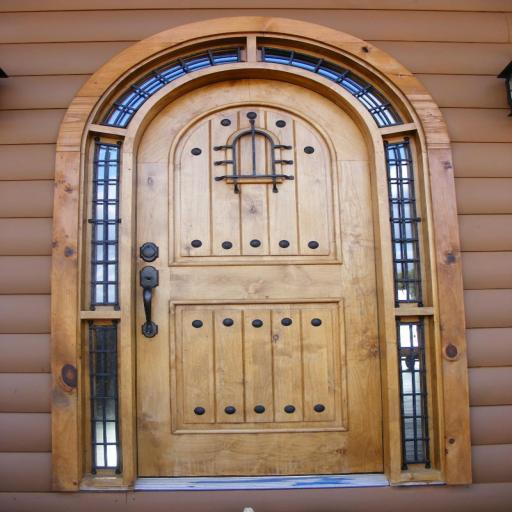Door: (134, 77, 383, 477)
